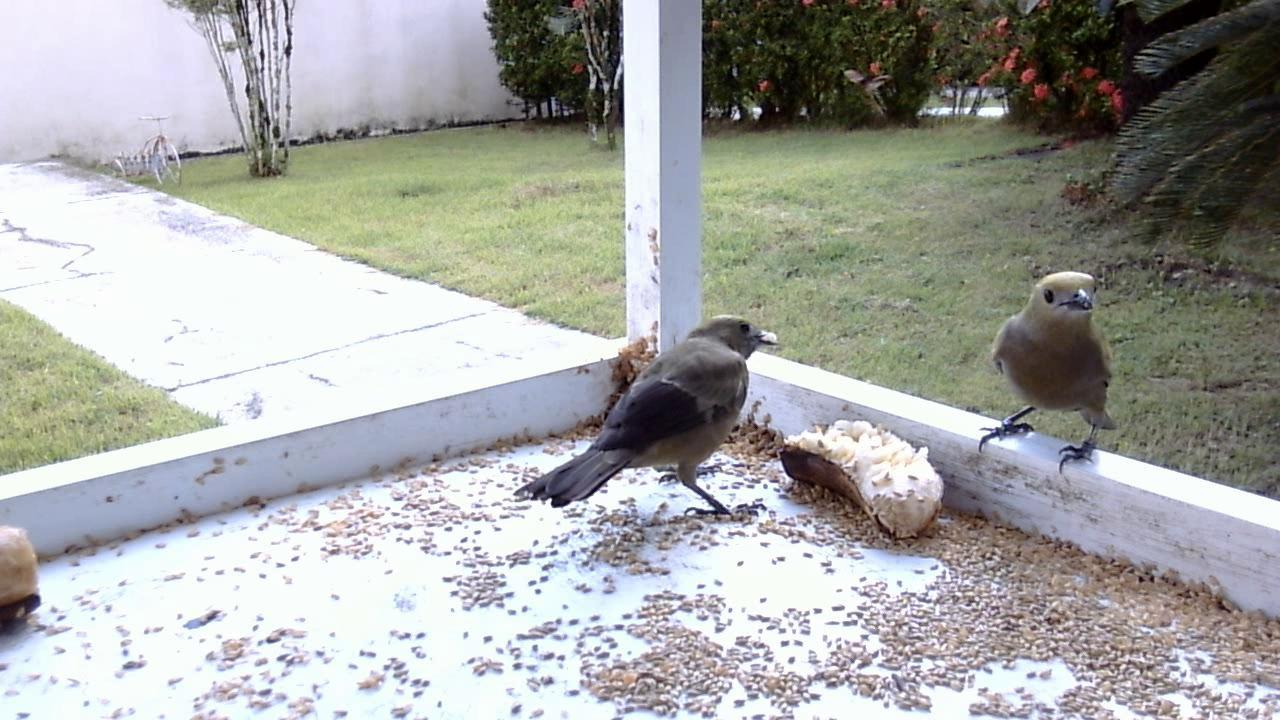sanhaco_do_coqueiro: (513, 307, 772, 524), (971, 266, 1120, 480)
